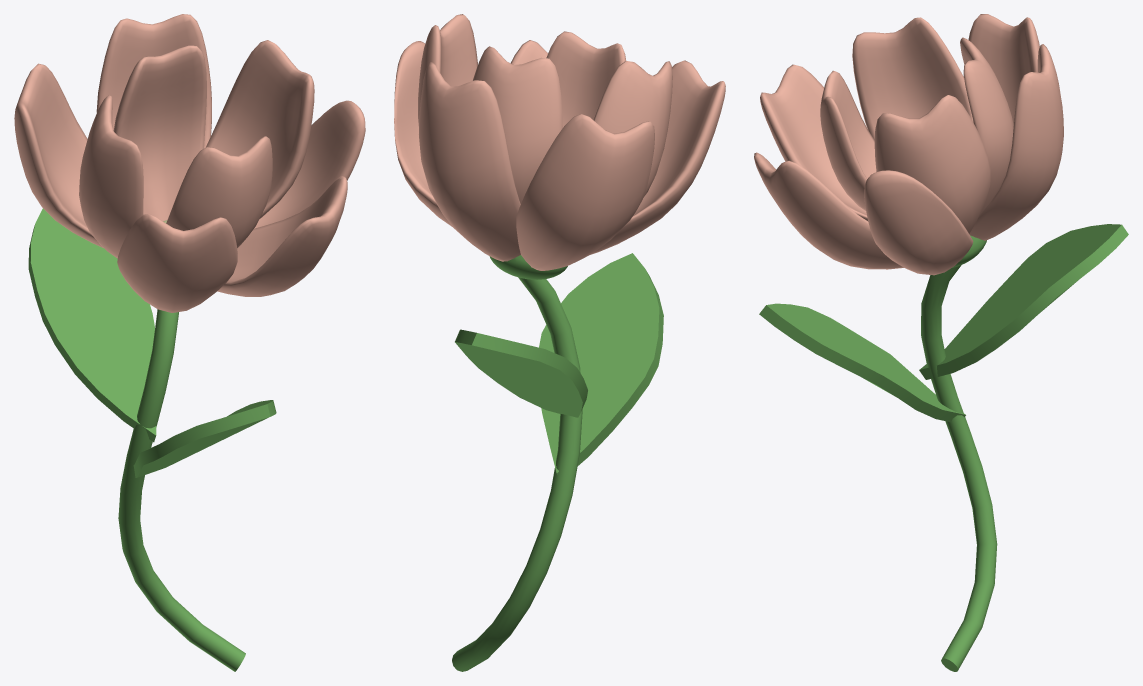
The model's file is FlowerAR1.glb.
3 views of the same model, side by side, from view 1: azimuth 30°, elevation 25°; view 2: azimuth 150°, elevation 25°; view 3: azimuth 270°, elevation 25° (orthographic). The views are drawn at different scales.
Parts seen in each view (by area): view 1: 圆环, 平面.008, 平面.007, 平面.004, 贝塞尔曲线, 平面.002, 平面.006, 平面.005, 平面.003, 平面.009, 平面, 圆环.001; view 2: 平面.002, 圆环.001, 平面, 贝塞尔曲线, 平面.004, 平面.008, 圆环, 平面.003, 平面.005, 平面.009, 平面.007, 球体 (+1 smaller); view 3: 圆环, 平面.007, 平面.003, 贝塞尔曲线, 平面, 平面.009, 平面.006, 圆环.001, 平面.004, 平面.005, 平面.008, 平面.002.
Part boxes in pixels (box(x1,y1,x2,y2)): 圆环: box(28, 208, 156, 442); 平面.008: box(113, 45, 206, 221); 平面.007: box(206, 40, 314, 218); 平面.004: box(117, 214, 237, 312); 贝塞尔曲线: box(118, 309, 245, 671); 平面.002: box(14, 63, 103, 247); 平面.006: box(217, 176, 347, 296); 平面.005: box(166, 136, 272, 247); 平面.003: box(79, 95, 143, 258); 平面.009: box(254, 100, 365, 228); 平面: box(96, 14, 211, 148); 圆环.001: box(133, 400, 276, 477); 平面.002: box(516, 114, 654, 270); 圆环.001: box(539, 253, 663, 474); 平面: box(419, 62, 520, 261); 贝塞尔曲线: box(452, 277, 582, 671); 平面.004: box(590, 60, 725, 254); 平面.008: box(473, 46, 562, 203); 圆环: box(455, 329, 587, 417); 平面.003: box(593, 61, 672, 197); 平面.005: box(546, 31, 626, 127); 平面.009: box(394, 41, 452, 226); 平面.007: box(418, 14, 477, 125); 球体: box(489, 255, 567, 279); 圆环: box(919, 224, 1128, 379); 平面.007: box(874, 95, 990, 233); 平面.003: box(852, 17, 972, 139); 贝塞尔曲线: box(921, 265, 997, 671); 平面: box(969, 44, 1063, 240); 平面.009: box(864, 170, 973, 275); 平面.006: box(754, 152, 904, 269); 圆环.001: box(759, 303, 965, 422); 平面.004: box(760, 64, 868, 221); 平面.005: box(820, 70, 876, 210); 平面.008: box(960, 37, 1013, 214); 平面.002: box(963, 14, 1039, 125).
Bounding box in the file's own units: 3.06 × 6.39 × 3.64.
